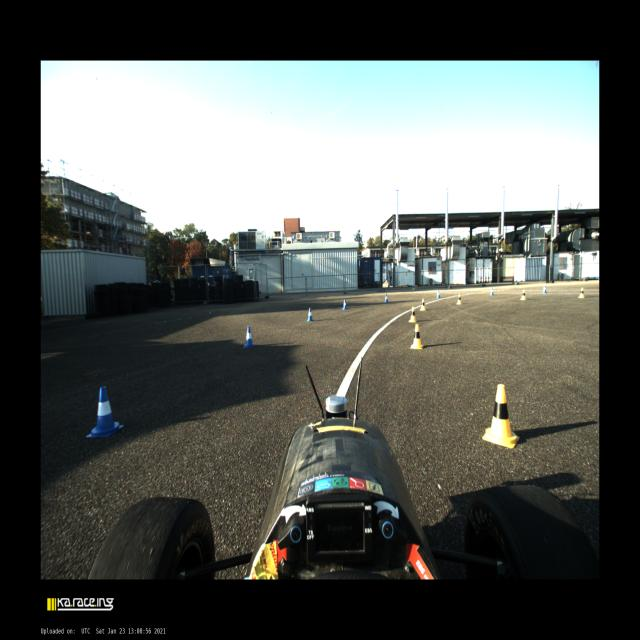blue_cone: (85, 386, 124, 438), (243, 326, 255, 348), (306, 307, 314, 322), (342, 299, 348, 310), (542, 284, 547, 294), (384, 293, 389, 303), (489, 287, 494, 296), (436, 290, 440, 298)
yellow_cone: (482, 384, 520, 449), (410, 324, 423, 349), (408, 306, 418, 324), (409, 306, 417, 322), (420, 298, 426, 310), (520, 289, 526, 301), (578, 287, 584, 298), (520, 289, 526, 300), (456, 294, 462, 304)
